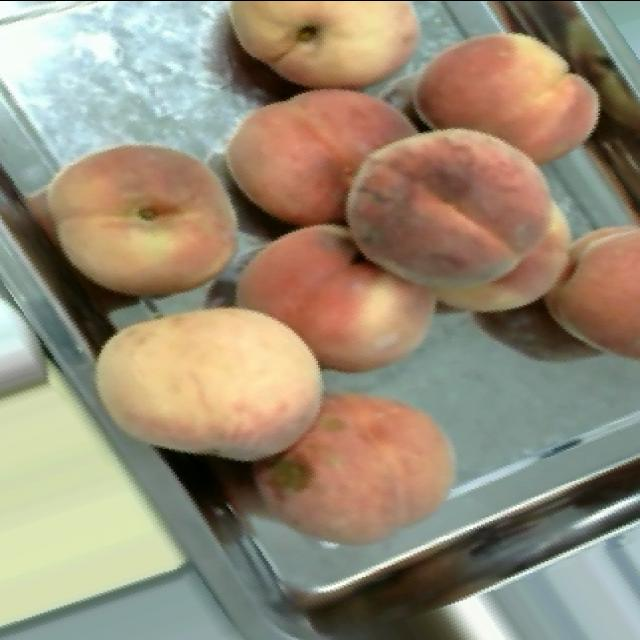Fruit: (316, 94, 610, 352), (65, 269, 348, 507), (2, 113, 272, 327), (227, 370, 479, 574), (386, 0, 623, 186), (213, 220, 455, 393), (203, 79, 439, 233), (203, 0, 439, 92)
